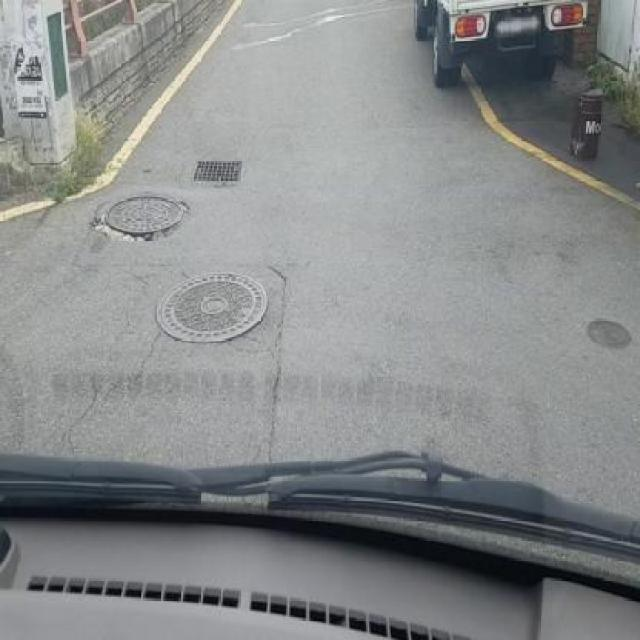Manhole: (151, 278, 280, 340), (90, 190, 192, 244), (189, 156, 246, 182), (586, 316, 631, 346)
